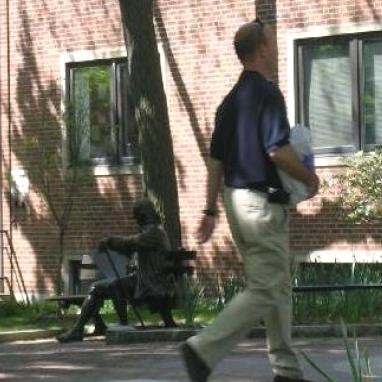ped: (182, 21, 320, 382)
